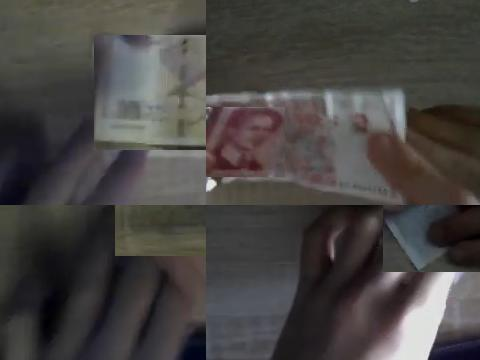10leva: (94, 35, 206, 146)
20leva: (383, 205, 457, 272)
5leva: (206, 107, 285, 177)
